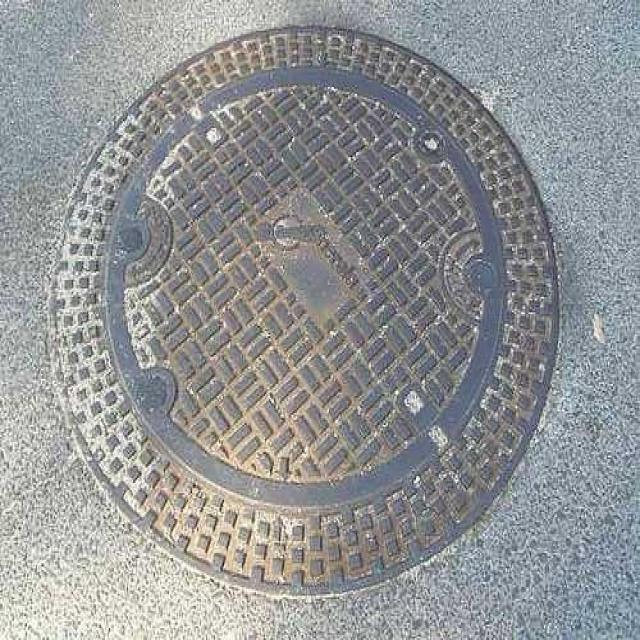manhole: (55, 28, 558, 593)
